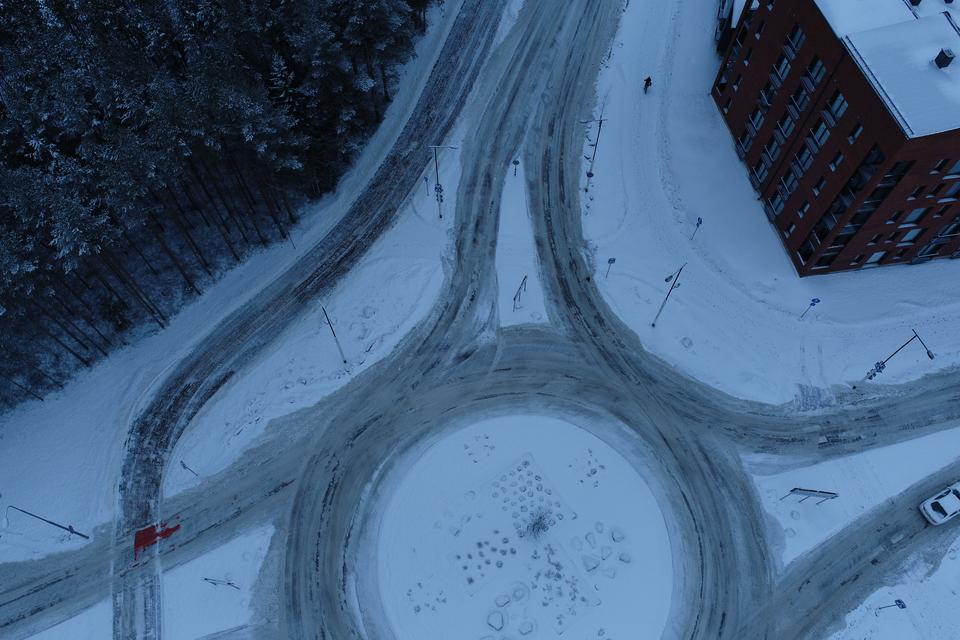intersection: (76, 459, 181, 620)
roundabout: (204, 270, 805, 640)
